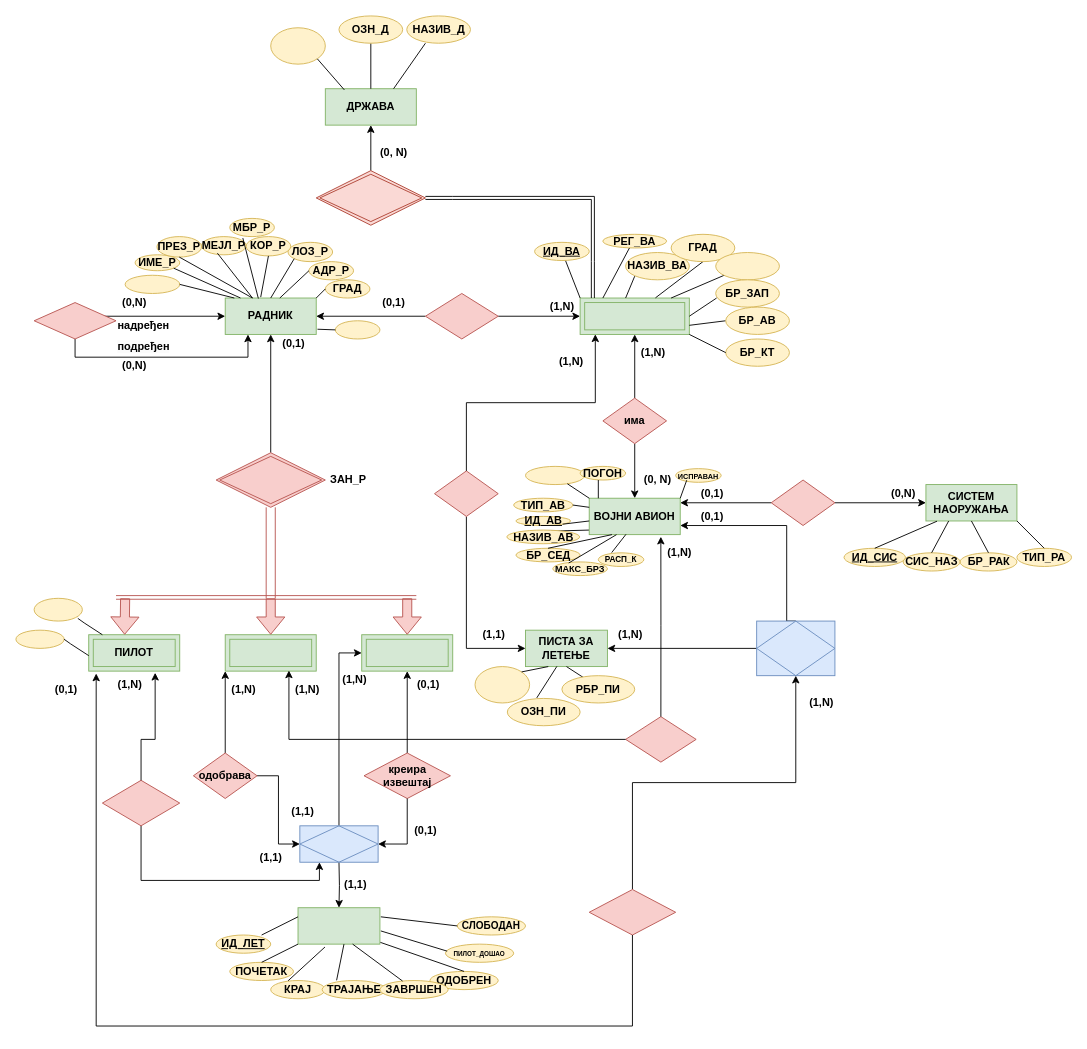
The diagram is 1087 pixels wide and 1049 high, and some of its shapes have lost their labels. The shapes that lost their labels are listed below. From the top down, each one's centre as x and y in pixels, then its label:
point 297,45: ИД_Д
point 370,197: припада
point 152,283: ИД_БРОЈ
point 747,266: ЛОК
point 74,320: хијерархија
point 357,329: ДРЖ_Р
point 461,316: запошљава
point 634,315: ВОЈНИ АЕРОДРОМ
point 270,479: IS-A
point 466,493: садржи
point 555,475: РЕГ_АВ
point 802,502: веже се
point 57,609: ЧИН
point 39,638: ПОЕНИ
point 270,652: МЕХАНИЧАР
point 407,652: КОНТРОЛОР ЛЕТА
point 795,648: налази се
point 502,684: ИД_ПИ
point 660,739: одржава
point 140,802: резервише
point 338,843: креира
point 338,925: ЛЕТ
point 632,912: лети
